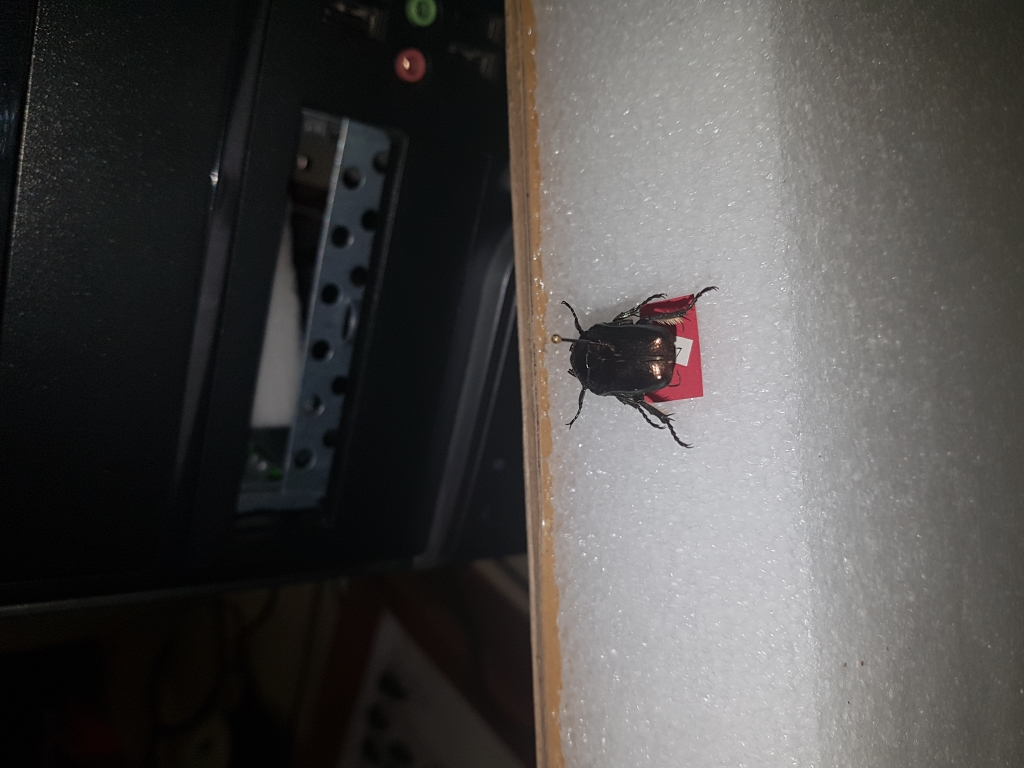Protaetia_besucheti: (542, 283, 725, 453)
